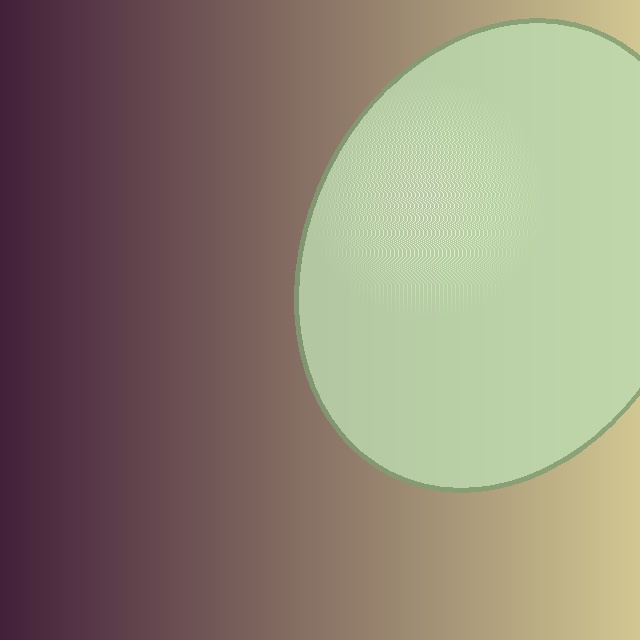lens: (296, 21, 640, 489)
